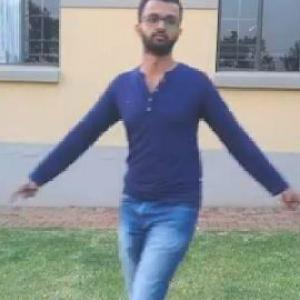land: (1, 0, 289, 299)
